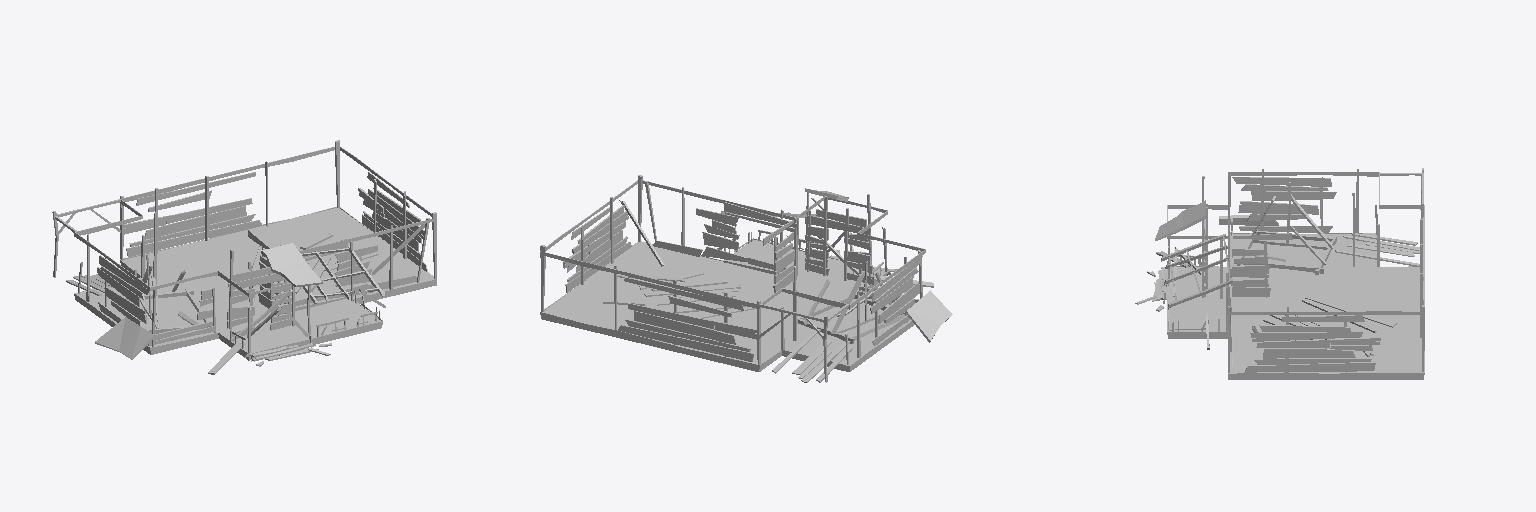
File: Broken House.obj
3 renders of one model, left to right at view 1: azimuth 30°, elevation 25°; view 2: azimuth 150°, elevation 25°; view 3: azimuth 270°, elevation 25°, orthographic.
Parts seen in each view (by area): view 1: BrokenHouse3, BrokenHouse2, BrokenHouse4, BrokenHouse1, BrokenHouse5; view 2: BrokenHouse3, BrokenHouse4, BrokenHouse2, BrokenHouse1, BrokenHouse5; view 3: BrokenHouse3, BrokenHouse4, BrokenHouse2, BrokenHouse1, BrokenHouse5.
Part boxes in pixels (bbox=[...]): BrokenHouse3: bbox=[75, 208, 436, 360]; BrokenHouse2: bbox=[66, 233, 378, 374]; BrokenHouse4: bbox=[124, 172, 428, 314]; BrokenHouse1: bbox=[52, 140, 436, 353]; BrokenHouse5: bbox=[55, 147, 436, 366]; BrokenHouse3: bbox=[541, 240, 914, 371]; BrokenHouse4: bbox=[563, 202, 797, 361]; BrokenHouse2: bbox=[603, 188, 952, 382]; BrokenHouse1: bbox=[540, 175, 922, 382]; BrokenHouse5: bbox=[540, 180, 925, 368]; BrokenHouse3: bbox=[1168, 234, 1423, 379]; BrokenHouse4: bbox=[1229, 217, 1423, 372]; BrokenHouse2: bbox=[1155, 177, 1419, 356]; BrokenHouse1: bbox=[1161, 168, 1424, 372]; BrokenHouse5: bbox=[1135, 172, 1424, 375].
Size of the model in its own units: 31.51 by 9.09 by 24.4.